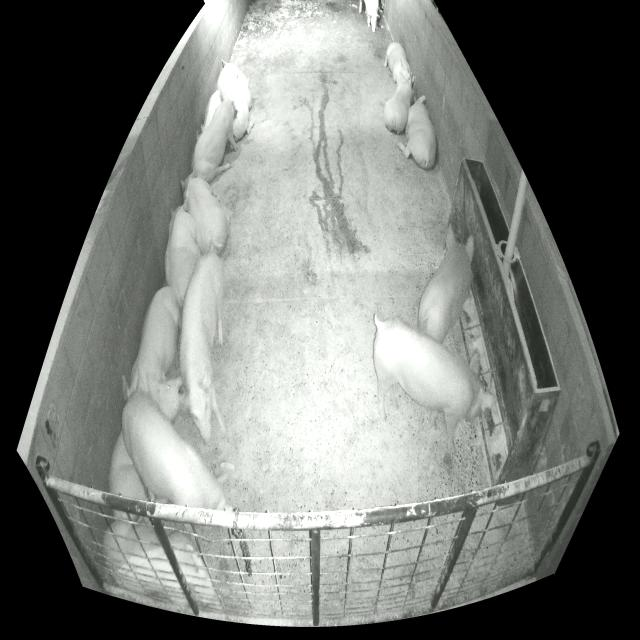pig: (374, 313, 492, 443), (122, 391, 233, 511), (110, 369, 184, 520), (103, 519, 215, 609), (180, 253, 227, 444), (122, 286, 181, 400), (418, 223, 474, 343), (190, 88, 239, 184), (181, 166, 228, 255), (165, 200, 200, 309), (216, 60, 254, 142), (397, 95, 436, 169), (385, 75, 415, 134), (384, 42, 411, 86), (201, 90, 221, 132), (364, 0, 380, 32)
